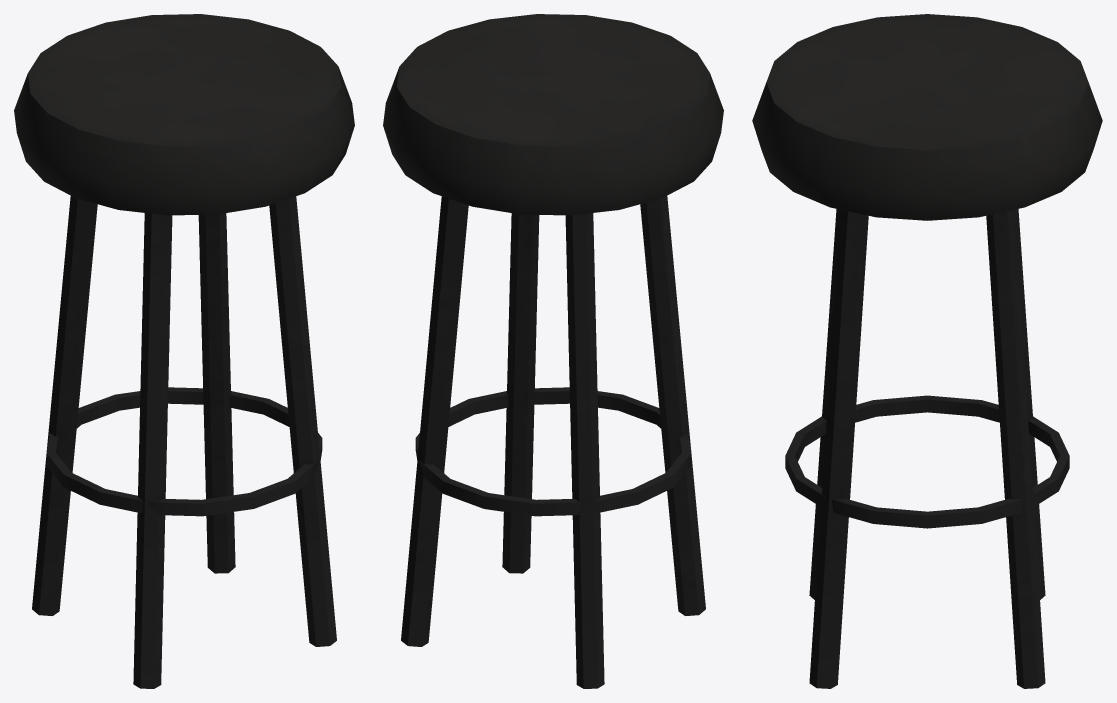
The model's file is H_BarStool.fbx.
3 views of the same model, side by side, from view 1: azimuth 30°, elevation 25°; view 2: azimuth 150°, elevation 25°; view 3: azimuth 270°, elevation 25° (orthographic). The views are drawn at different scales.
Visible parts, largest first — view 1: H_BarStool; view 2: H_BarStool; view 3: H_BarStool.
Part boxes in pixels (x1=…): H_BarStool: x1=14, y1=14, x2=354, y2=688; H_BarStool: x1=383, y1=14, x2=723, y2=688; H_BarStool: x1=752, y1=14, x2=1102, y2=688.
Size of the model in its own units: 148 by 261 by 148.
Materials: 1 (1 with a texture image).
